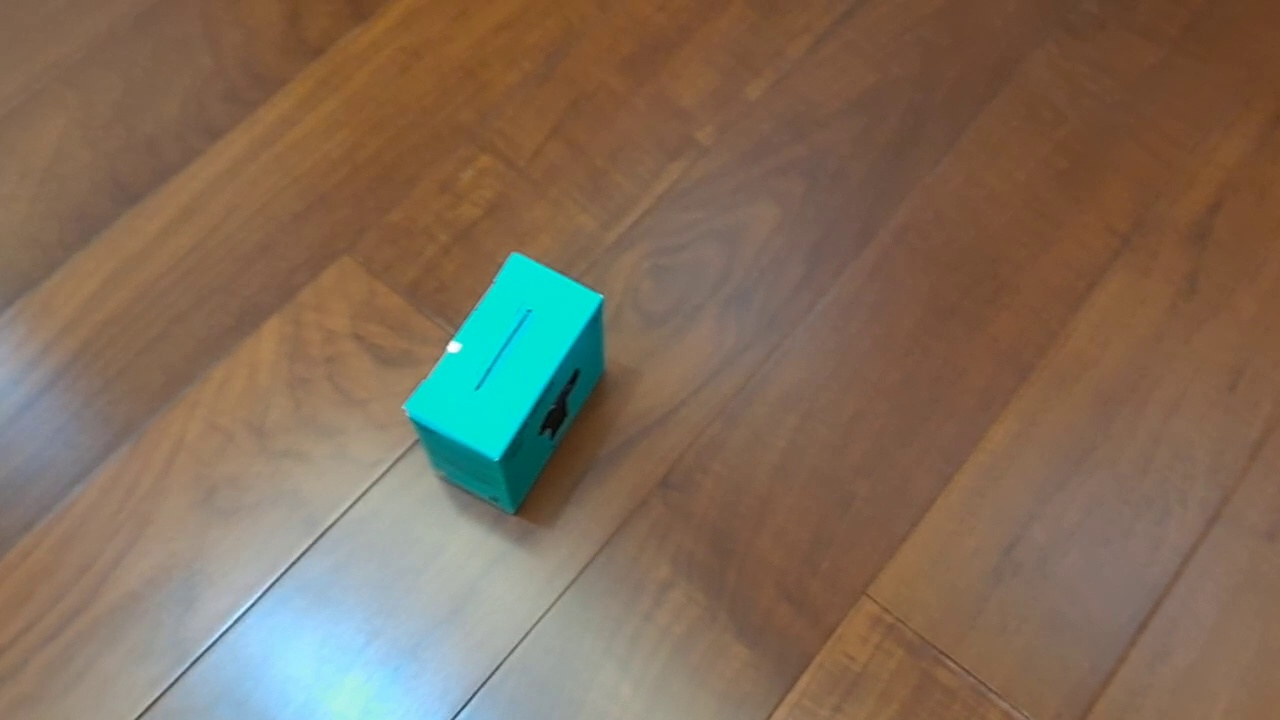webcam: (400, 251, 606, 516)
